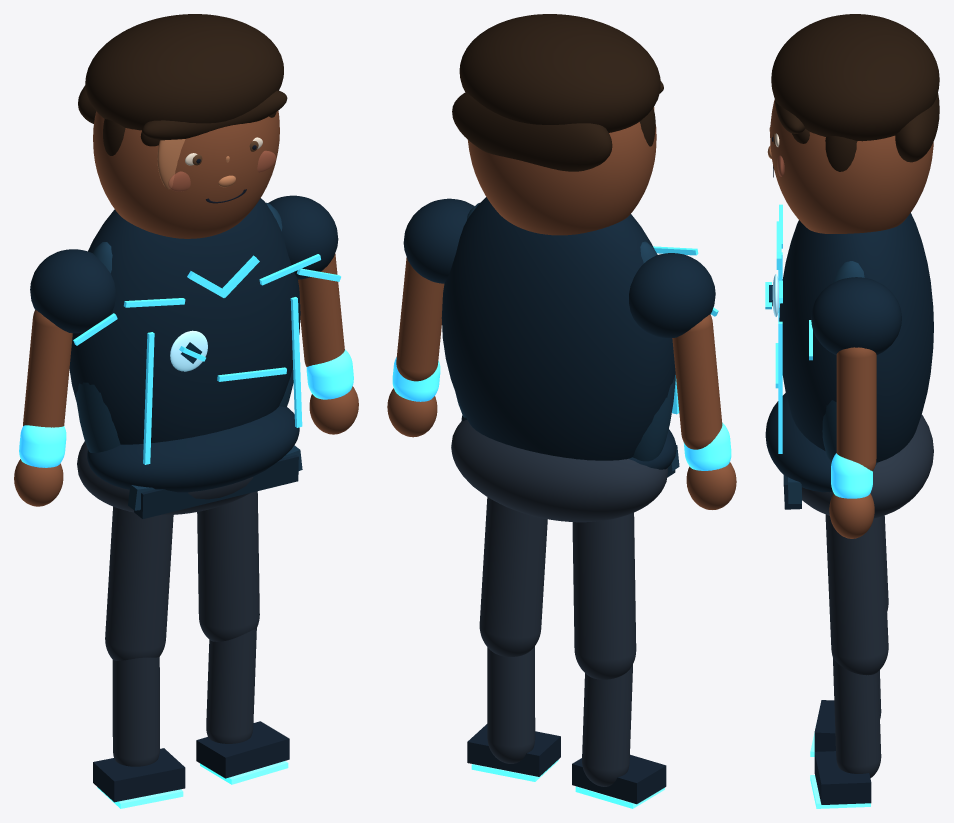
File: sound-avatar.glb
3 views of the same model, side by side, from view 1: azimuth 30°, elevation 25°; view 2: azimuth 150°, elevation 25°; view 3: azimuth 270°, elevation 25° (orthographic). The views are drawn at different scales.
Visible parts, largest first — view 1: torso shirt core, continuous crown hair cap, head sculpt, relaxed lower shirt drape, left thigh, right thigh, left shoulder, left shin, right shin, left upper arm, right upper arm, right shoulder (+16 smaller); view 2: torso shirt core, continuous crown hair cap, hips, head sculpt, left thigh, right thigh, back hair coverage, left shoulder, left shin, right shin, left upper arm, right upper arm (+9 smaller); view 3: torso shirt core, continuous crown hair cap, head sculpt, right thigh, right shoulder, right upper arm, right shin, hips, relaxed lower shirt drape, right shoe, back hair coverage, right hand (+8 smaller).
Boxes of the visible parts, left/top/right/bottom form: torso shirt core: left=69, top=198, right=300, bottom=444; continuous crown hair cap: left=85, top=14, right=283, bottom=130; head sculpt: left=93, top=110, right=279, bottom=238; relaxed lower shirt drape: left=87, top=406, right=299, bottom=492; left thigh: left=105, top=506, right=173, bottom=660; right thigh: left=197, top=491, right=259, bottom=641; left shoulder: left=30, top=249, right=115, bottom=333; left shin: left=112, top=657, right=159, bottom=766; right shin: left=206, top=628, right=256, bottom=743; left upper arm: left=23, top=310, right=72, bottom=427; right upper arm: left=298, top=253, right=344, bottom=366; right shoulder: left=268, top=195, right=338, bottom=279; torso shirt core: left=441, top=197, right=675, bottom=460; continuous crown hair cap: left=459, top=14, right=660, bottom=132; hips: left=451, top=420, right=667, bottom=522; head sculpt: left=467, top=122, right=656, bottom=235; left thigh: left=572, top=512, right=636, bottom=679; right thigh: left=479, top=497, right=547, bottom=656; back hair coverage: left=452, top=92, right=612, bottom=171; left shoulder: left=629, top=253, right=715, bottom=338; left shin: left=582, top=664, right=632, bottom=786; right shin: left=487, top=646, right=535, bottom=763; left upper arm: left=672, top=314, right=722, bottom=449; right upper arm: left=396, top=257, right=444, bottom=381; torso shirt core: left=779, top=213, right=933, bottom=462; continuous crown hair cap: left=771, top=14, right=939, bottom=141; head sculpt: left=770, top=100, right=933, bottom=233; right thigh: left=825, top=514, right=888, bottom=675; right shoulder: left=811, top=277, right=901, bottom=355; right upper arm: left=836, top=347, right=876, bottom=471; right shin: left=833, top=658, right=881, bottom=778; hips: left=802, top=414, right=933, bottom=518; relaxed lower shirt drape: left=765, top=393, right=877, bottom=492; right shoe: left=814, top=751, right=871, bottom=804; back hair coverage: left=895, top=93, right=939, bottom=162; right hand: left=829, top=493, right=874, bottom=538.
Bounding box in the file's own units: 1.7 × 3.58 × 0.766.
